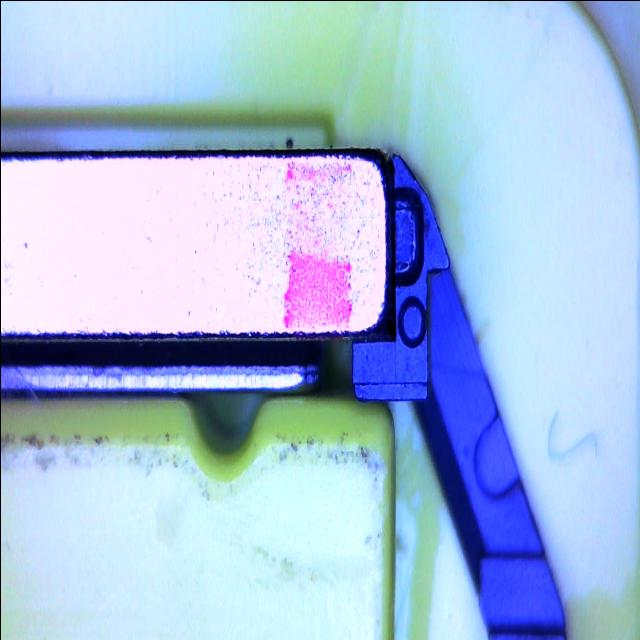lacking: (389, 185, 424, 287)
